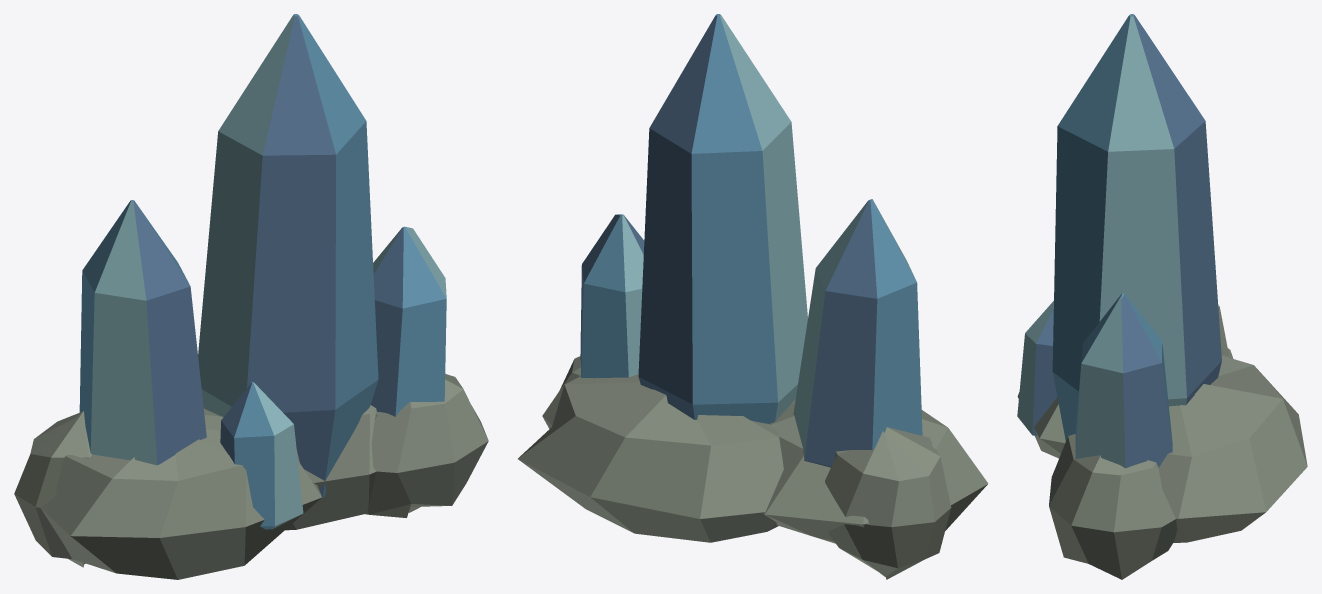
Rendered from crystal2.glb.
The picture shows the model from 3 angles, left to right: view 1: azimuth 30°, elevation 25°; view 2: azimuth 150°, elevation 25°; view 3: azimuth 270°, elevation 25°; orthographic projection. The views are drawn at different scales.
Visible parts, largest first — view 1: crystal2; view 2: crystal2; view 3: crystal2.
Part boxes in pixels (x1=…): crystal2: x1=14, y1=14, x2=488, y2=579; crystal2: x1=518, y1=14, x2=988, y2=579; crystal2: x1=1017, y1=14, x2=1307, y2=579.
Bounding box in the file's own units: 1.38 × 1.61 × 0.829.
